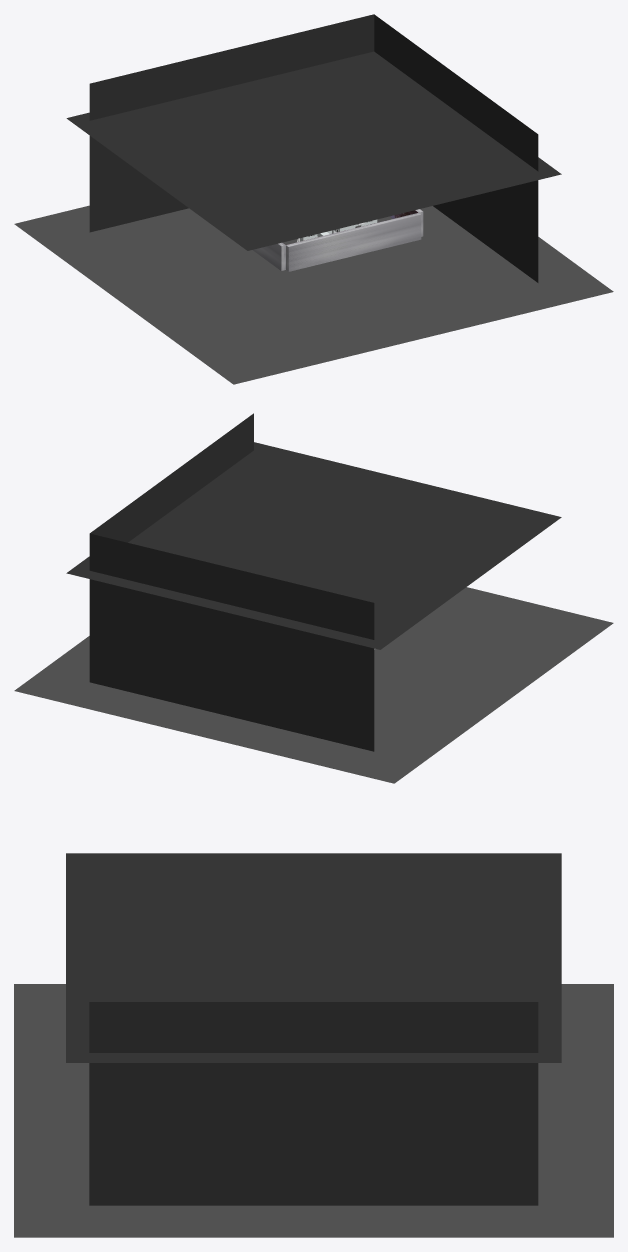
The model's file is exhibition.glb.
3 views of the same model, one above another, from view 1: azimuth 30°, elevation 25°; view 2: azimuth 150°, elevation 25°; view 3: azimuth 270°, elevation 25° (orthographic). The views are drawn at different scales.
Parts seen in each view (by area): view 1: Plane014, Plane019, Plane020, Plane021, Box332, Box333; view 2: Plane019, Plane020, Plane014, Plane021; view 3: Plane021, Plane019, Plane014.
Boxes of the visible parts, left/top/right/bottom form: Plane014: left=14, top=205, right=613, bottom=384; Plane019: left=66, top=51, right=561, bottom=250; Plane020: left=89, top=14, right=374, bottom=232; Plane021: left=374, top=14, right=538, bottom=282; Box332: left=286, top=212, right=421, bottom=271; Box333: left=253, top=242, right=285, bottom=270; Plane019: left=66, top=442, right=561, bottom=649; Plane020: left=89, top=533, right=374, bottom=751; Plane014: left=14, top=587, right=613, bottom=783; Plane021: left=90, top=413, right=253, bottom=542; Plane021: left=89, top=1002, right=538, bottom=1205; Plane019: left=66, top=853, right=561, bottom=1062; Plane014: left=14, top=984, right=613, bottom=1237.
Size of the model in its own units: 40.11 by 15 by 40.11.
Materials: 24 (7 with a texture image).
